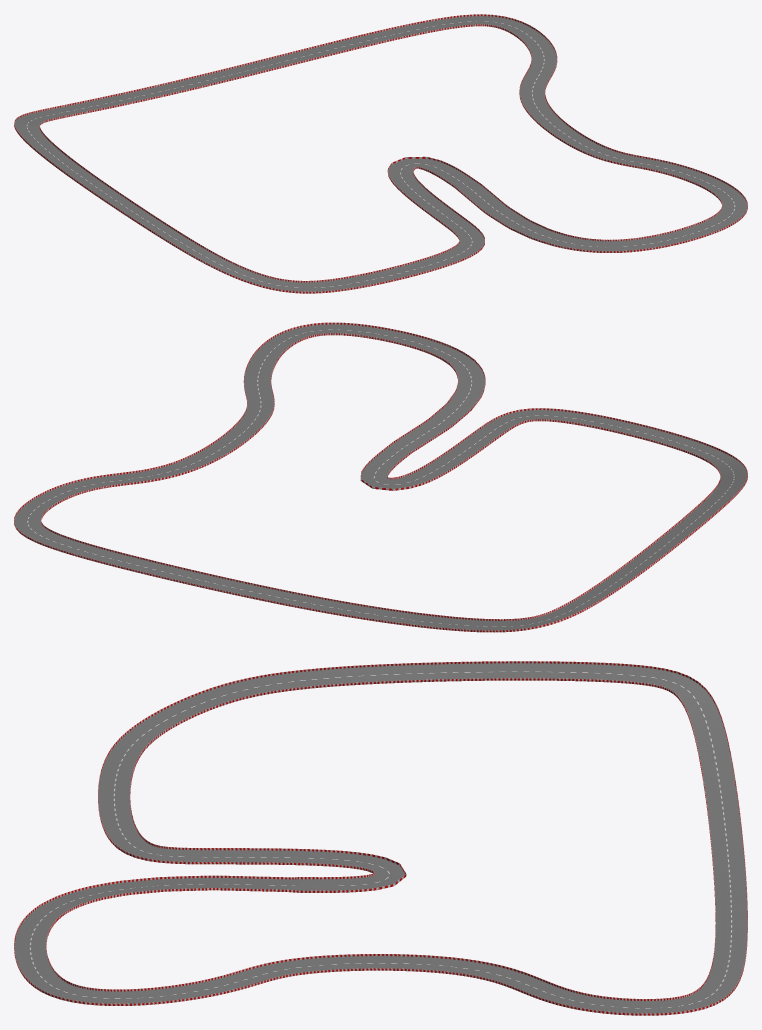
The model's file is carretera.obj.
The picture shows the model from 3 angles, top to bottom: view 1: azimuth 30°, elevation 25°; view 2: azimuth 150°, elevation 25°; view 3: azimuth 270°, elevation 25°; orthographic projection. The views are drawn at different scales.
Parts seen in each view (by area): view 1: Cube.008_Cube.002; view 2: Cube.008_Cube.002; view 3: Cube.008_Cube.002.
Part boxes in pixels (<box>): Cube.008_Cube.002: <box>14,14,747,293</box>; Cube.008_Cube.002: <box>14,322,747,632</box>; Cube.008_Cube.002: <box>14,661,747,1015</box>.
Bounding box in the file's own units: 107 × 5.2 × 103.
